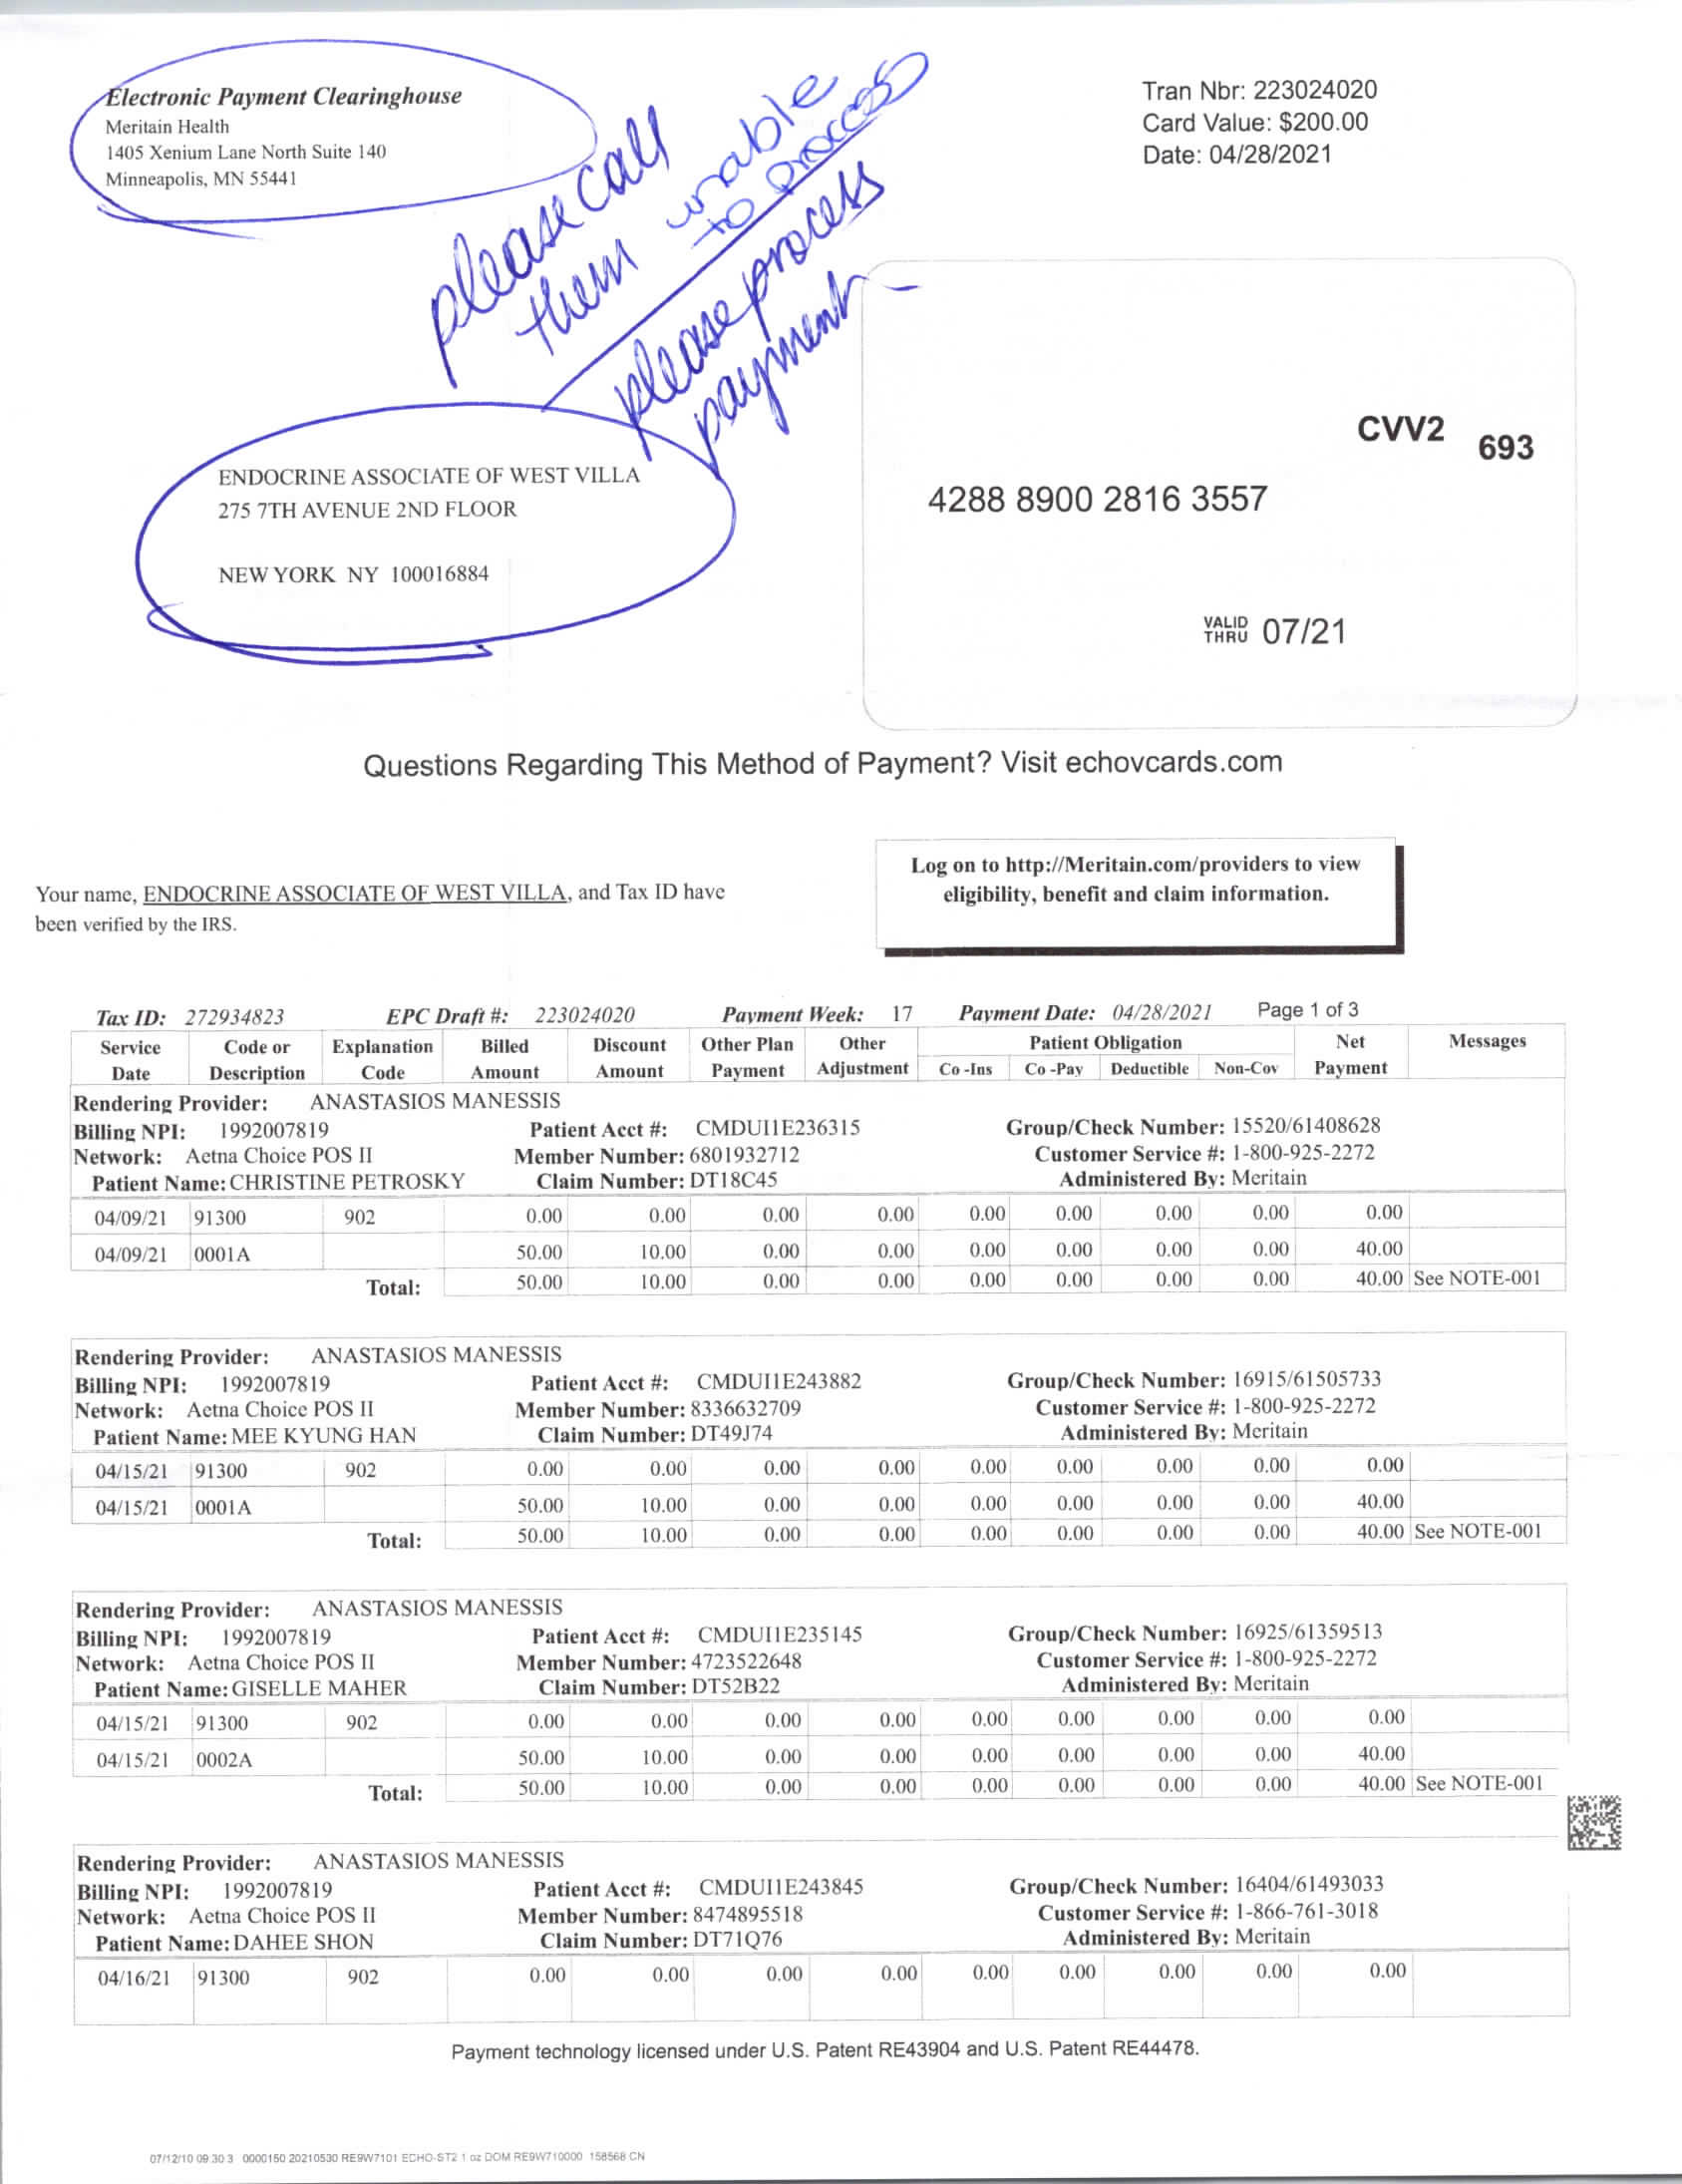data: (1122, 55, 1408, 173)
table: (53, 995, 1572, 1308), (57, 1332, 1578, 1566), (64, 1581, 1578, 1808), (72, 1831, 1578, 2032)
